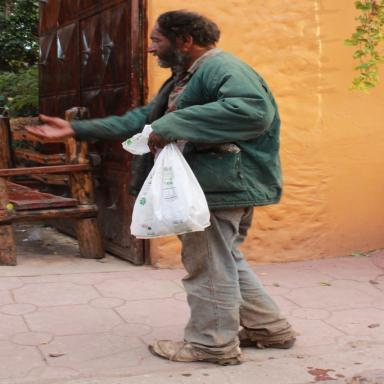plasticbag: (118, 121, 210, 239)
